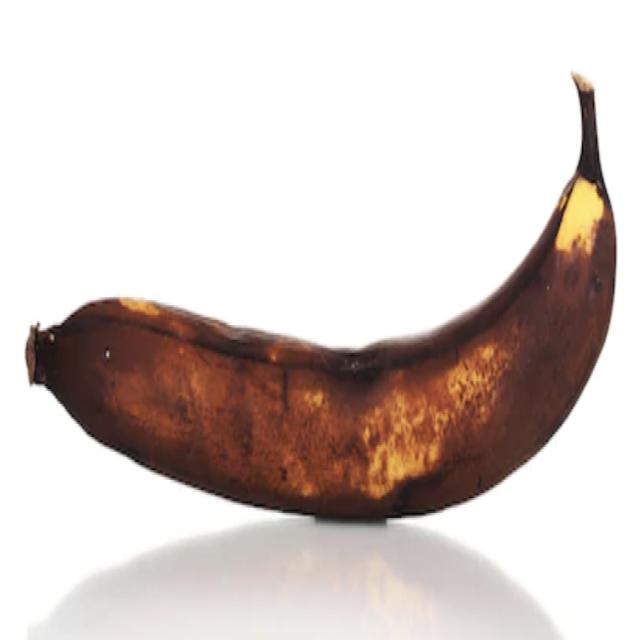rotten-banana: (25, 68, 618, 521)
